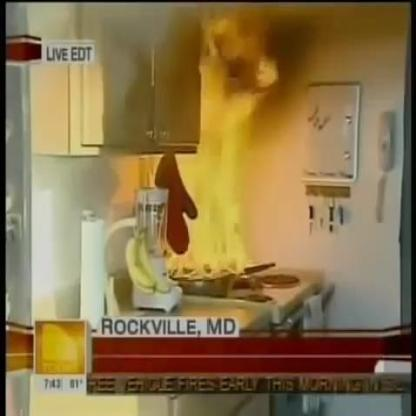fire: (154, 87, 263, 283)
